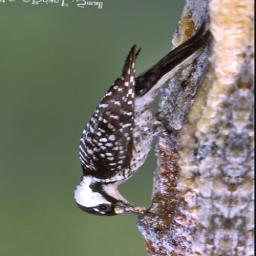Woodpecker: (68, 17, 211, 222)
